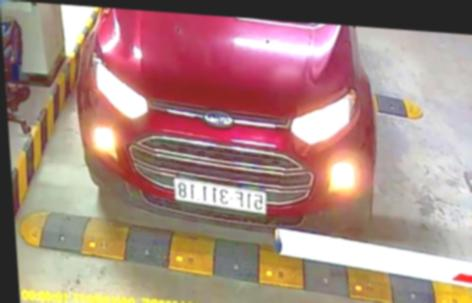License_Plate: (173, 177, 269, 214)
